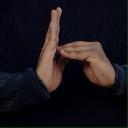hand: (56, 40, 116, 88), (35, 6, 66, 93)
